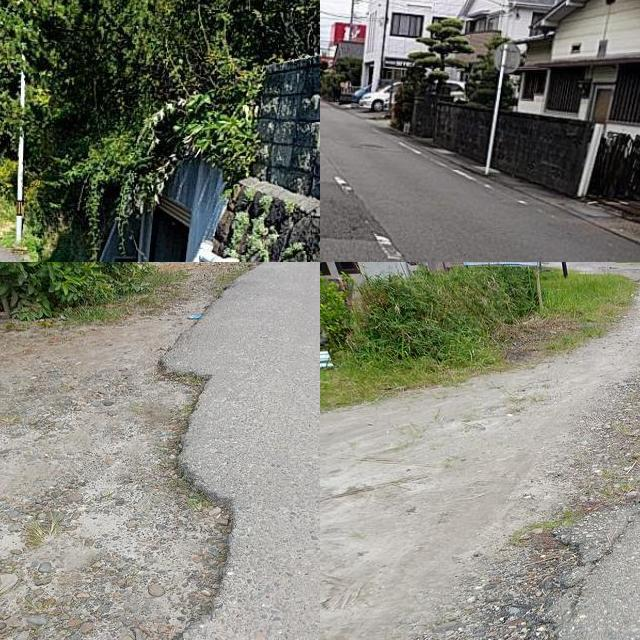Pinggir: (136, 301, 251, 640)
